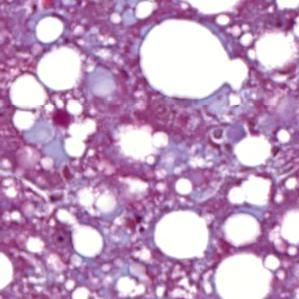steatosis: (151, 211, 213, 260), (35, 48, 84, 91)
